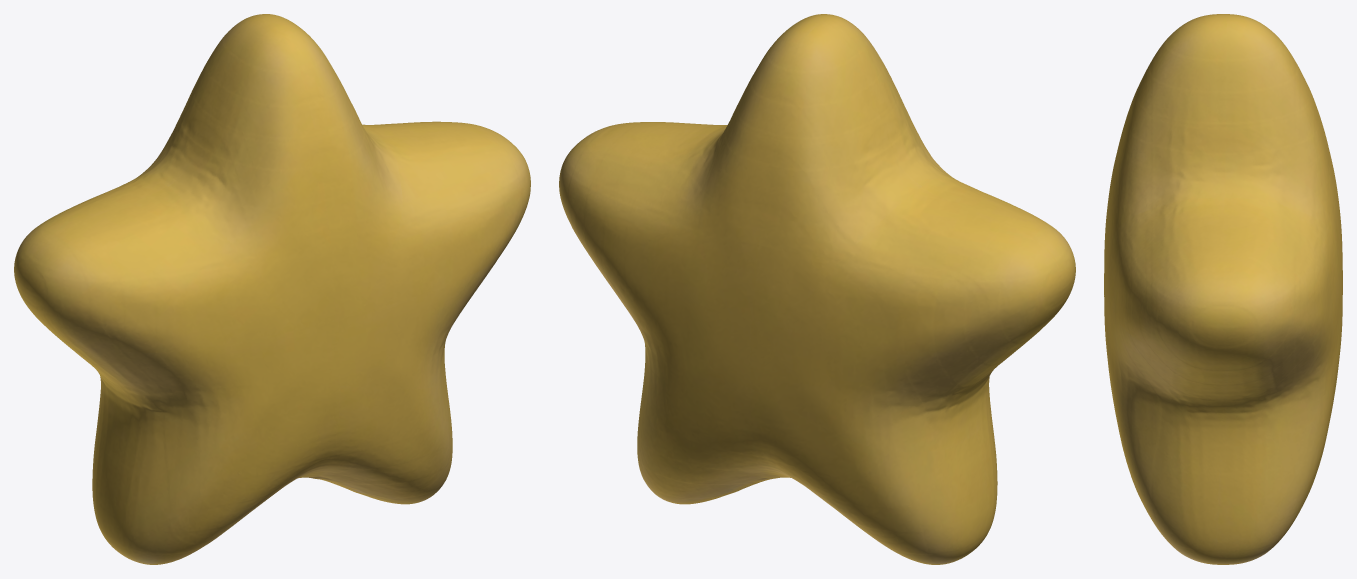
File: food_star.glb
3 views of the same model, side by side, from view 1: azimuth 30°, elevation 25°; view 2: azimuth 150°, elevation 25°; view 3: azimuth 270°, elevation 25° (orthographic). The views are drawn at different scales.
Bounding box in the file's own units: 1 × 0.9805 × 0.4384.
Materials: 1 (1 with a texture image).
